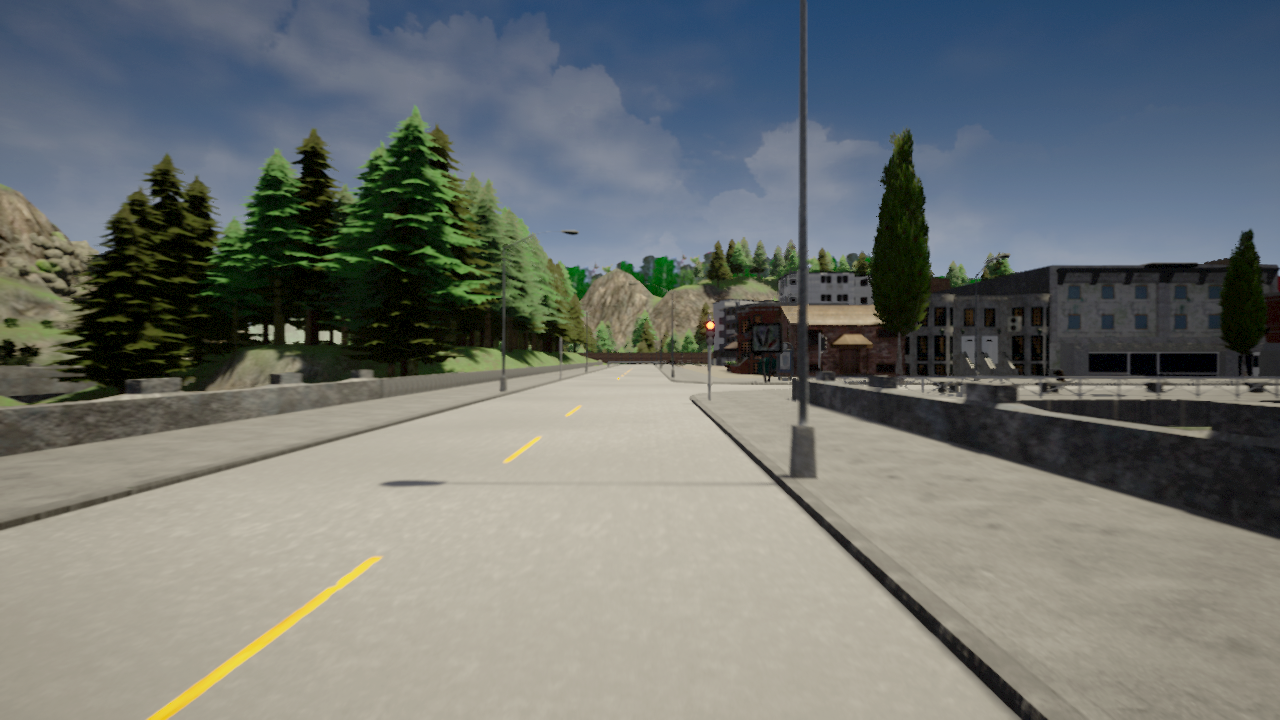red: (704, 319, 716, 346)
